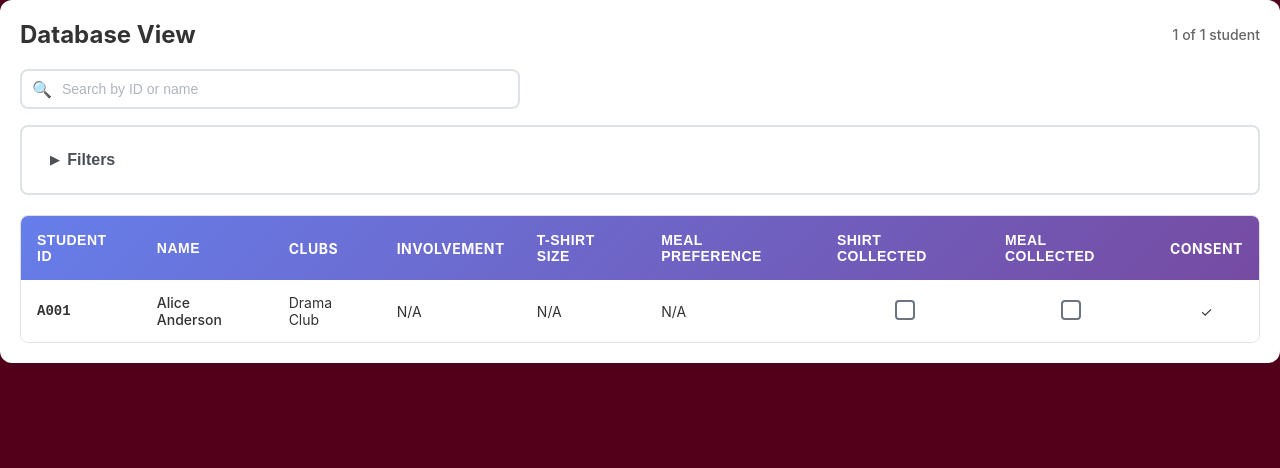
Scenario: Edge Cases › Empty state display (Requirement 8.4) › should display empty state when no results match filters
Expected: the text "Alice Anderson" is shown, [141,280,273,342]
// Apply search that matches nothing
In the search field with placeholder "Search by ID or name": (270, 89) [20,69,520,109], type "NonexistentStudent"
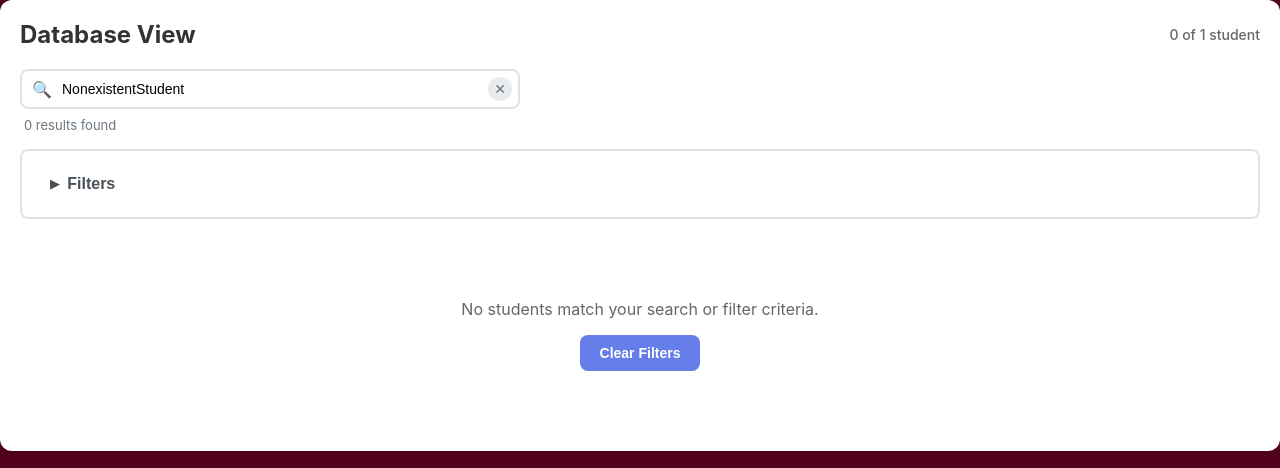
Expected: the text "No students match your search or filter criteria." is shown, [461,299,819,319]
